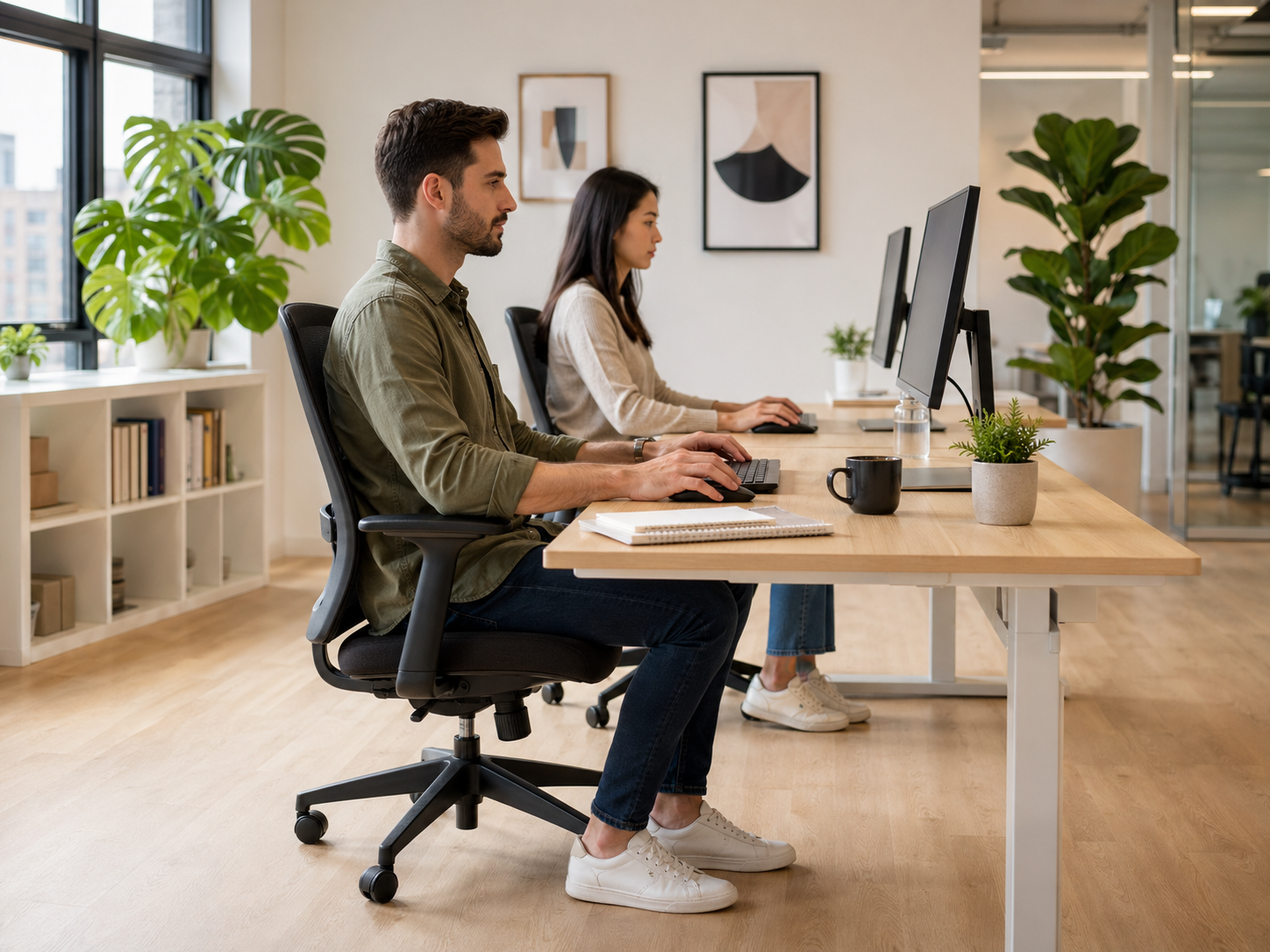sitting_good: (269, 95, 556, 879), (568, 168, 780, 670)
